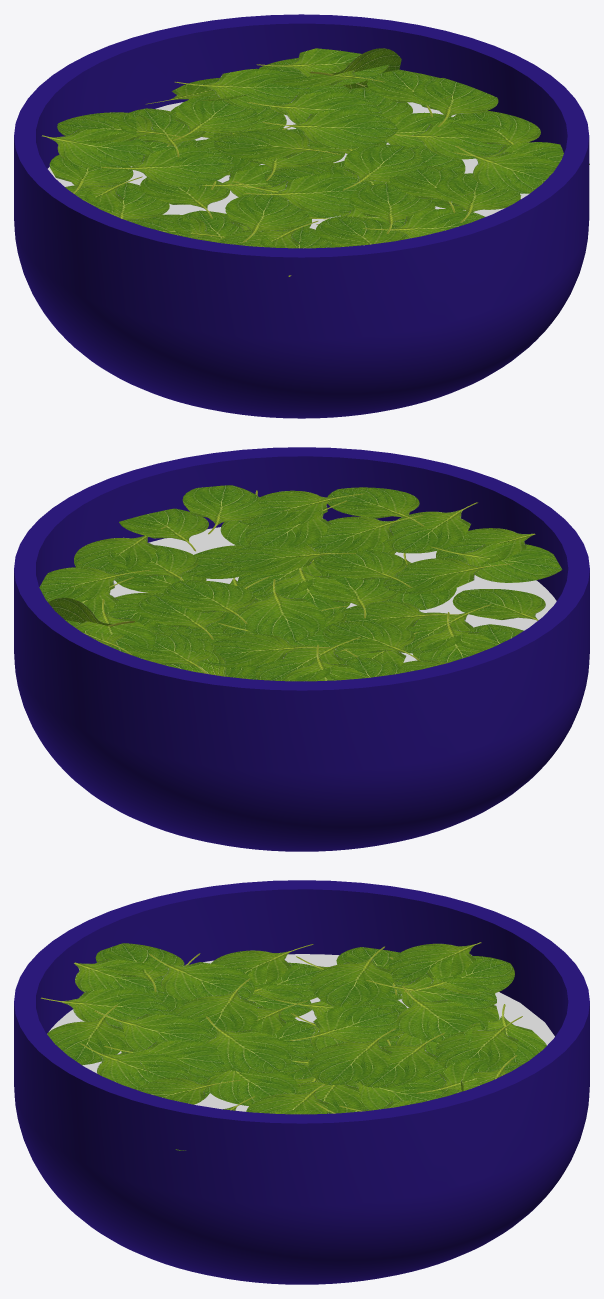
File: Sayur Bayam blend.fbx
3 renders of one model, top to bottom at view 1: azimuth 30°, elevation 25°; view 2: azimuth 150°, elevation 25°; view 3: azimuth 270°, elevation 25°, orthographic.
Parts seen in each view (by area): view 1: CUBA+BOWL+40, BAYEM KETOK E.125, BAYEM KETOK E.114, BAYEM KETOK E.124, BAYEM KETOK E.126, BAYEM KETOK E.096, BAYEM KETOK E.094, BAYEM KETOK E.108, BAYEM KETOK E.120, BAYEM KETOK E.122, BAYEM KETOK E.109, BAYEM KETOK E.083 (+33 smaller); view 2: CUBA+BOWL+40, Cylinder, BAYEM KETOK E.120, BAYEM KETOK E.089, BAYEM KETOK E.088, BAYEM KETOK E.108, BAYEM KETOK E.096, BAYEM KETOK E.125, BAYEM KETOK E.114, BAYEM KETOK E.095, BAYEM KETOK E.101, BAYEM KETOK E.048 (+32 smaller); view 3: CUBA+BOWL+40, BAYEM KETOK E.114, BAYEM KETOK E.125, BAYEM KETOK E.109, Cylinder, BAYEM KETOK E.108, BAYEM KETOK E.122, BAYEM KETOK E.120, BAYEM KETOK E.089, BAYEM KETOK E.105, BAYEM KETOK E.095, BAYEM KETOK E.126 (+23 smaller).
Boxes of the visible parts, x1,y1,x2,y2 form: CUBA+BOWL+40: (14,14,589,418); BAYEM KETOK E.125: (262,109,398,148); BAYEM KETOK E.114: (100,147,234,187); BAYEM KETOK E.124: (42,129,153,168); BAYEM KETOK E.126: (174,68,310,108); BAYEM KETOK E.096: (455,145,558,193); BAYEM KETOK E.094: (244,173,371,213); BAYEM KETOK E.108: (225,193,308,242); BAYEM KETOK E.120: (214,129,340,159); BAYEM KETOK E.122: (172,95,257,140); BAYEM KETOK E.109: (342,144,426,190); BAYEM KETOK E.083: (414,78,498,126); CUBA+BOWL+40: (14,447,589,851); Cylinder: (109,527,556,662); BAYEM KETOK E.120: (238,579,325,642); BAYEM KETOK E.089: (386,502,477,553); BAYEM KETOK E.088: (431,543,562,582); BAYEM KETOK E.108: (383,558,513,594); BAYEM KETOK E.096: (182,485,263,534); BAYEM KETOK E.125: (163,580,254,623); BAYEM KETOK E.114: (322,621,420,660); BAYEM KETOK E.095: (327,487,424,526); BAYEM KETOK E.101: (309,515,423,554); BAYEM KETOK E.048: (452,589,545,620); CUBA+BOWL+40: (14,880,589,1284); BAYEM KETOK E.114: (310,946,393,1006); BAYEM KETOK E.125: (308,1028,395,1085); BAYEM KETOK E.109: (206,1016,293,1073); Cylinder: (49,954,554,1111); BAYEM KETOK E.108: (148,953,254,1001); BAYEM KETOK E.122: (396,986,488,1042); BAYEM KETOK E.120: (290,1004,399,1042); BAYEM KETOK E.089: (41,988,169,1027); BAYEM KETOK E.105: (80,1043,191,1088); BAYEM KETOK E.095: (47,1004,125,1065); BAYEM KETOK E.126: (435,1016,522,1069).
Size of the model in its own units: 7744 by 3097 by 7744.
